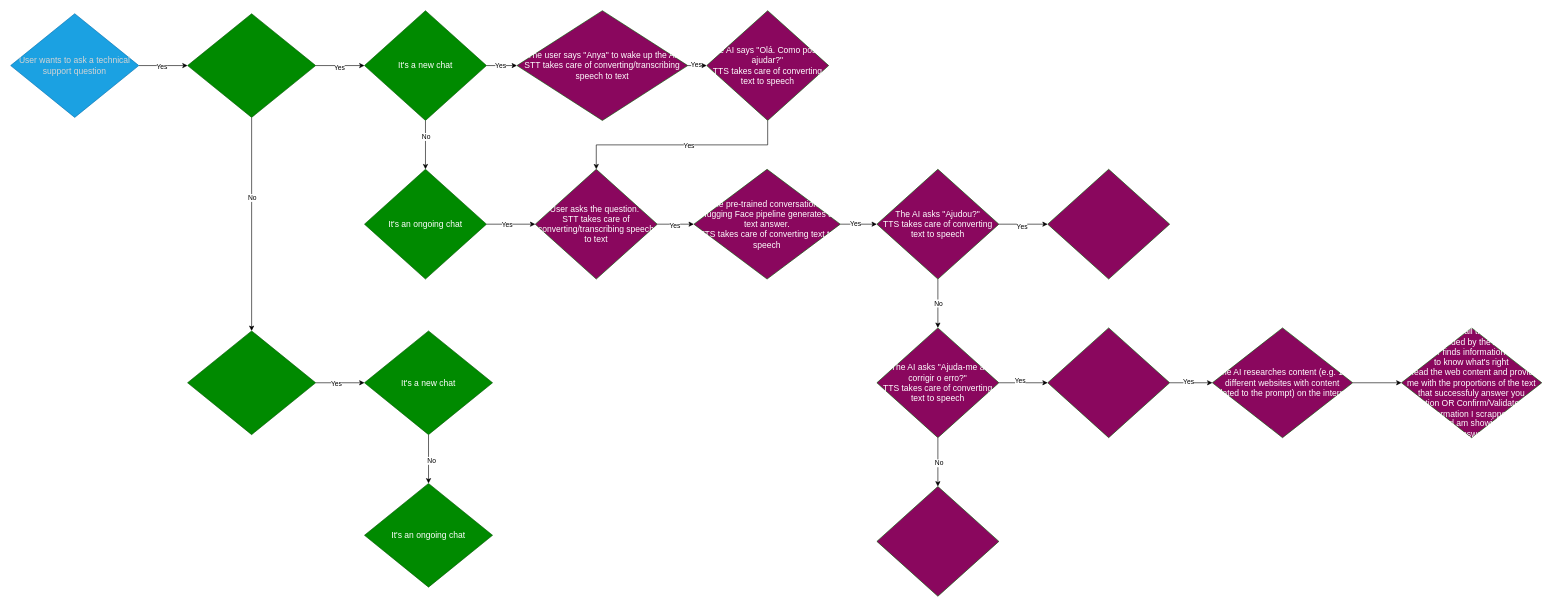
This 1552x607 diagram has some shape labels left out. The centre of each missing label's shape, as x and y in pixels:
The AI reports to the trainer (me and maybe others) to fix the error: point 937,541
The AI says "Your question was [QUESTION], right?": point 1108,382
Train the AI with the new data.: point 1108,224
User wants to ask the question through text input: point 251,382
User wants to ask the question through voice input: point 251,65
